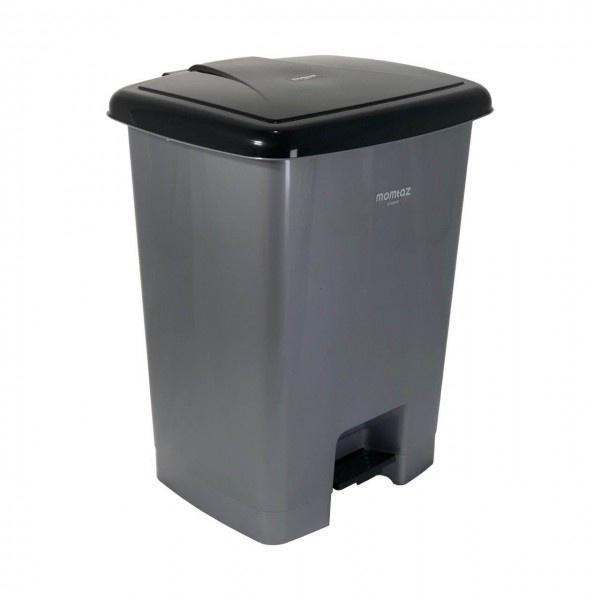Bote de Basura: (113, 44, 484, 522)
